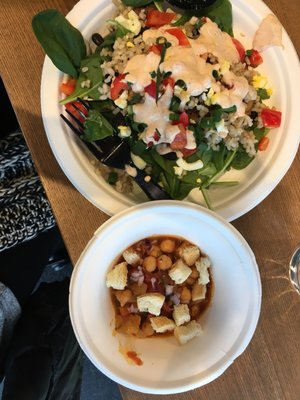sushi: (31, 0, 300, 222), (68, 200, 263, 395)
